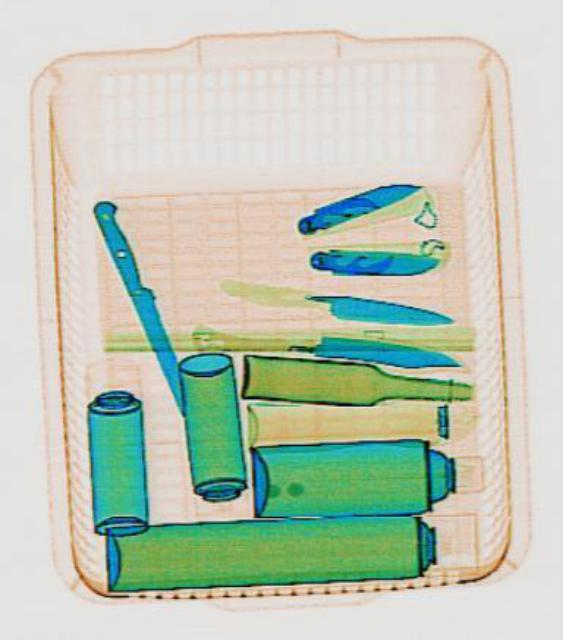Knife: (86, 194, 199, 416), (287, 166, 423, 240), (302, 286, 453, 334), (307, 332, 463, 372), (307, 244, 440, 278)
